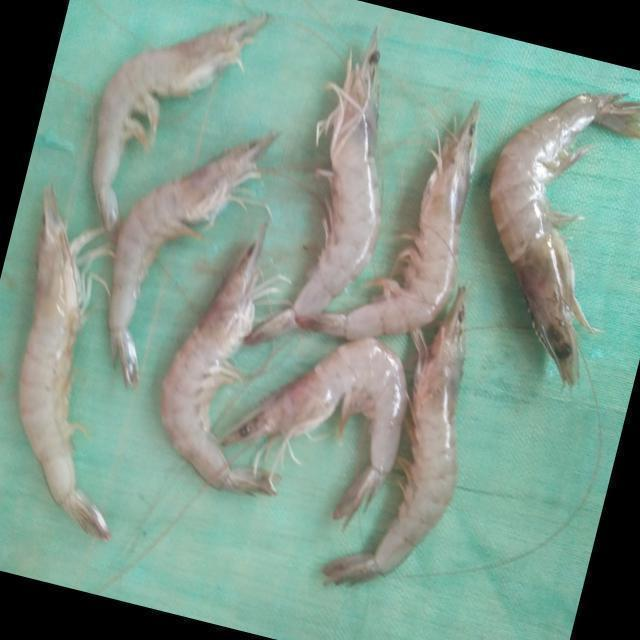shrimp: (296, 101, 480, 339), (491, 92, 640, 385), (108, 132, 277, 387), (245, 28, 381, 344), (324, 287, 466, 584), (92, 13, 268, 240), (223, 337, 408, 523), (19, 186, 110, 540), (161, 225, 276, 495)
